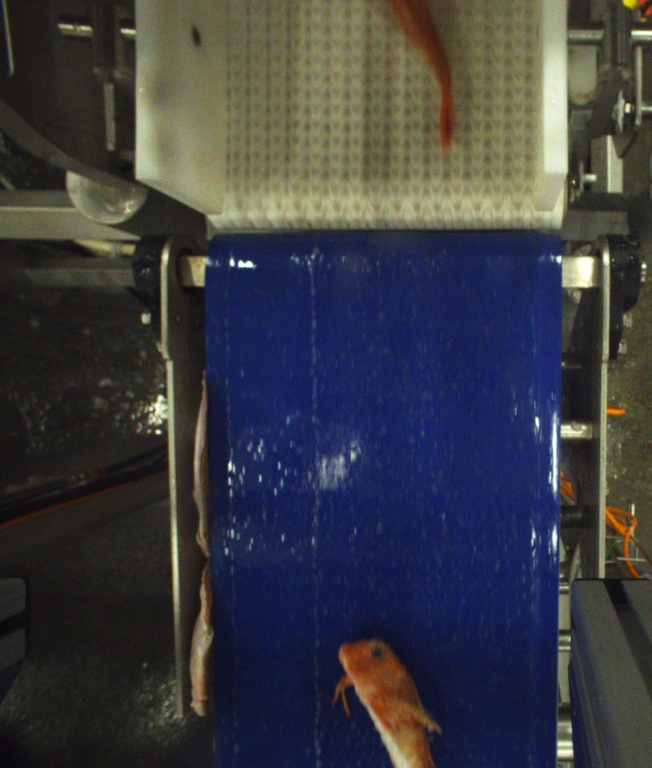GUU: (389, 1, 456, 154)
